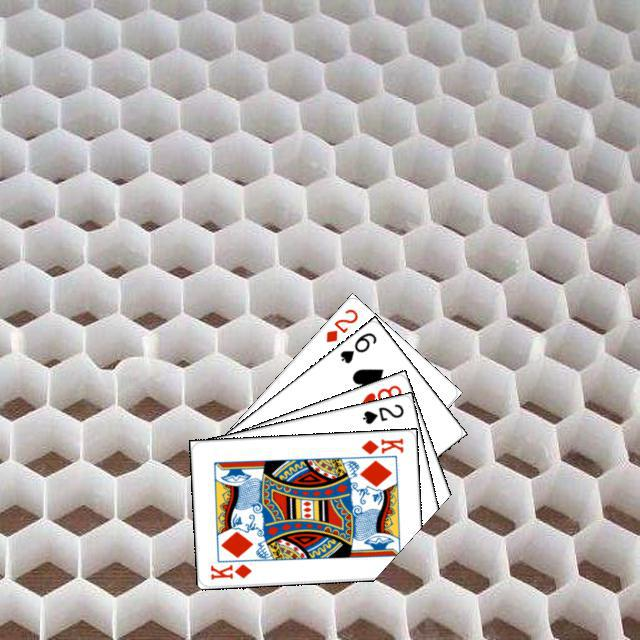2d: (321, 304, 360, 344)
2s: (358, 399, 405, 426)
6s: (335, 327, 379, 365)
8h: (356, 380, 403, 410)
Kd: (356, 433, 405, 455), (205, 559, 253, 581)
